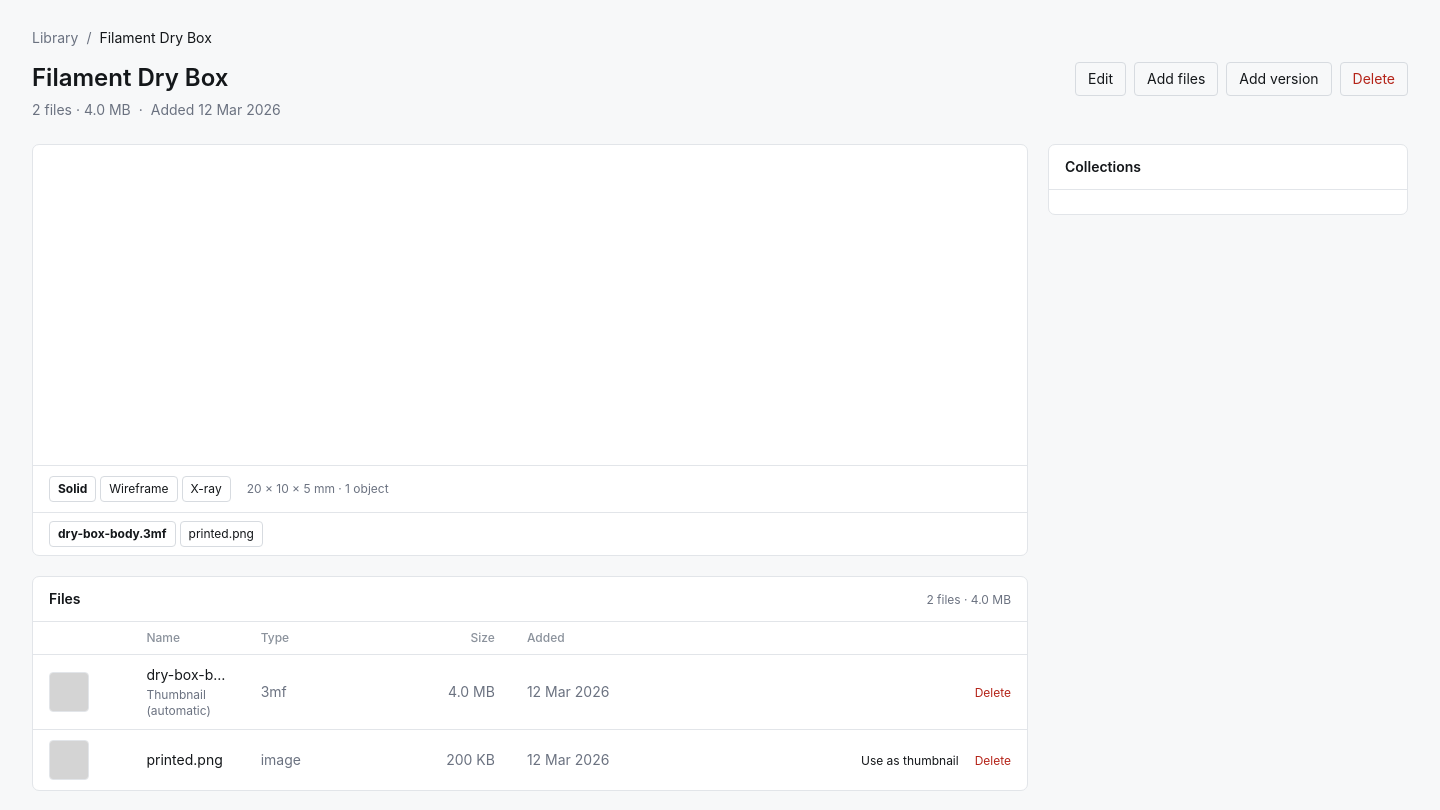
Test: model detail thumbnails › pins a file and renders what the server resolved
Click the button "Use as thumbnail": click(910, 761) [861,753,959,769]
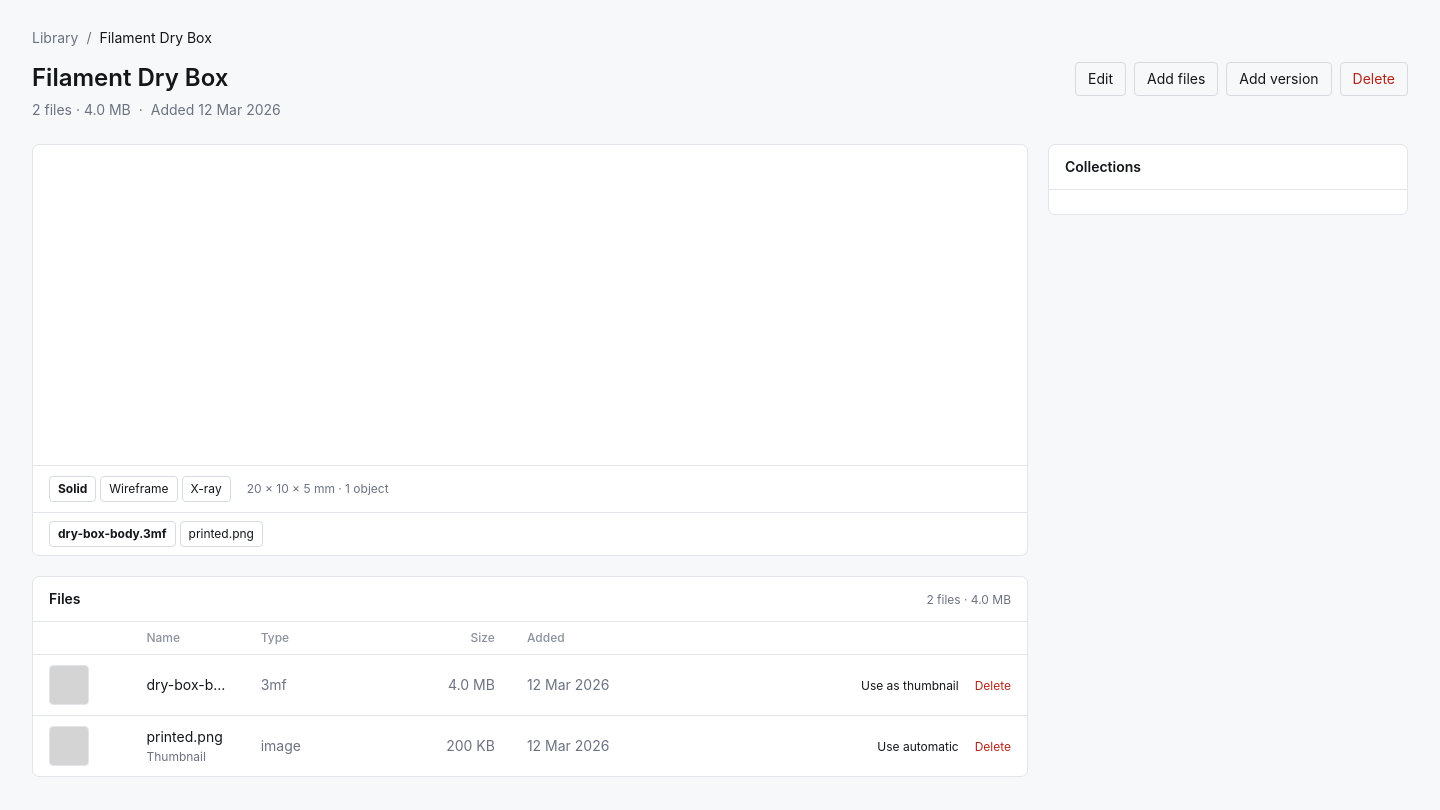
Expected: the text "Thumbnail" is shown, [146,749,206,764]
Expected: the text "Thumbnail (automatic)" is gone
Expected: the button "Use automatic" is shown, [877,739,959,755]
